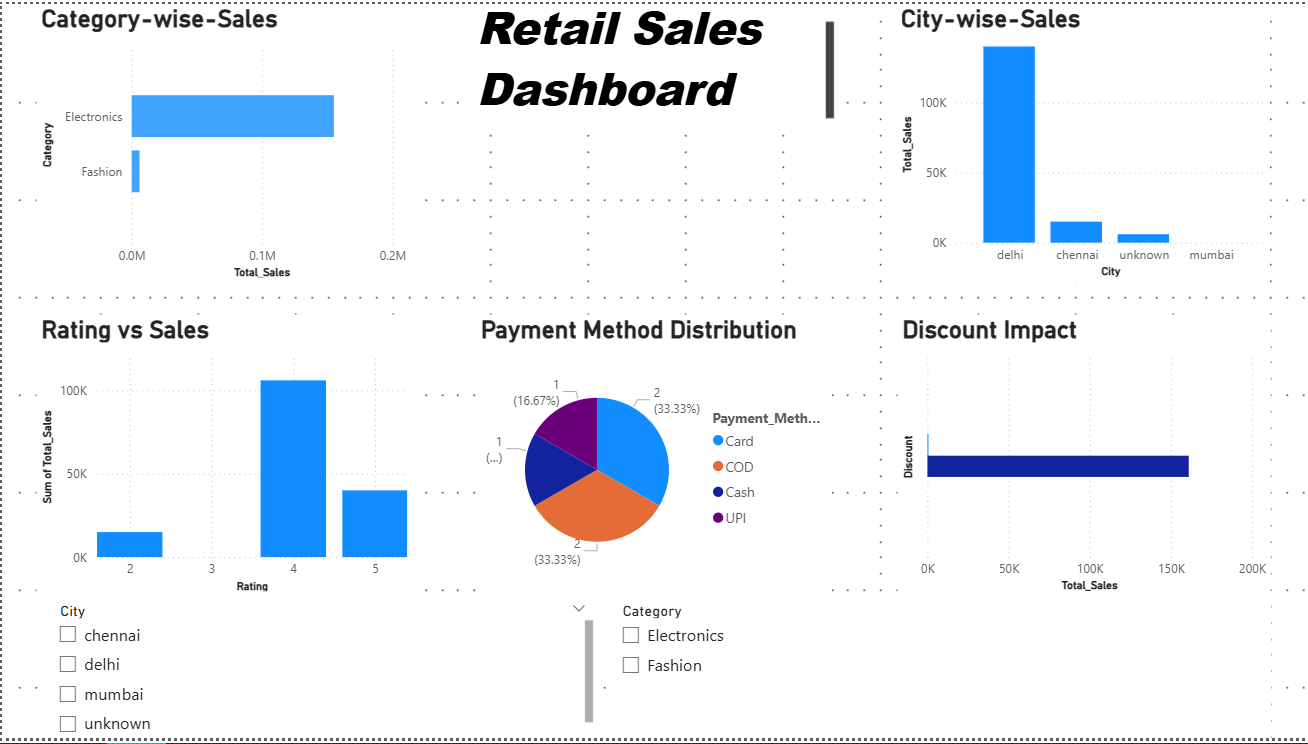

This screenshot's page, from the dashboard's own definition file:
{"tool":"powerbi","page":{"name":"Page 1","canvas":[1280,720],"ordinal":0},"visuals":[{"type":"clusteredBarChart","title":"Category-wise-Sales","fields":{"Category":["sales_data.Category"],"Y":["Sum(sales_data.Total_Sales)"]},"box":[34,0,367.8,273.2],"z":0},{"type":"clusteredColumnChart","title":"City-wise-Sales","fields":{"Category":["sales_data.City"],"Y":["Sum(sales_data.Total_Sales)"]},"box":[876.8,0,366.7,272.6],"z":1},{"type":"pieChart","title":"Payment Method Distribution","fields":{"Category":["sales_data.Payment_Method"],"Y":["CountNonNull(sales_data.Order_ID)"]},"box":[464.7,304.4,348.5,276.5],"z":2},{"type":"clusteredBarChart","title":"Discount Impact","fields":{"Y":["Sum(sales_data.Discount)","Sum(sales_data.Total_Sales)"]},"box":[877.3,304.2,366.3,276.2],"z":4},{"type":"textbox","box":[459.8,0,360.4,116.7],"z":5},{"type":"slicer","fields":{"Values":["sales_data.City"]},"box":[44.3,580.4,540.6,140.3],"z":6},{"type":"slicer","fields":{"Values":["sales_data.Category"]},"box":[595.2,580.4,648.4,140.3],"z":7},{"type":"clusteredColumnChart","title":"Rating vs Sales","fields":{"Y":["Sum(sales_data.Total_Sales)"],"Category":["sales_data.Rating"]},"box":[34,304,368.6,276.5],"z":8}]}

Visuals, with their boxes in screenshot pixels (x1, y1, x2, y2), scaled from the page's 1280x720 canvas onto the 1308x744 screenshot:
"Category-wise-Sales" clusteredBarChart: 35/0/411/282
"City-wise-Sales" clusteredColumnChart: 896/0/1271/282
"Payment Method Distribution" pieChart: 475/315/831/600
"Discount Impact" clusteredBarChart: 896/314/1271/600
textbox: 470/0/838/121
slicer - sales_data.City: 45/600/598/743
slicer - sales_data.Category: 608/600/1271/743
"Rating vs Sales" clusteredColumnChart: 35/314/411/600
